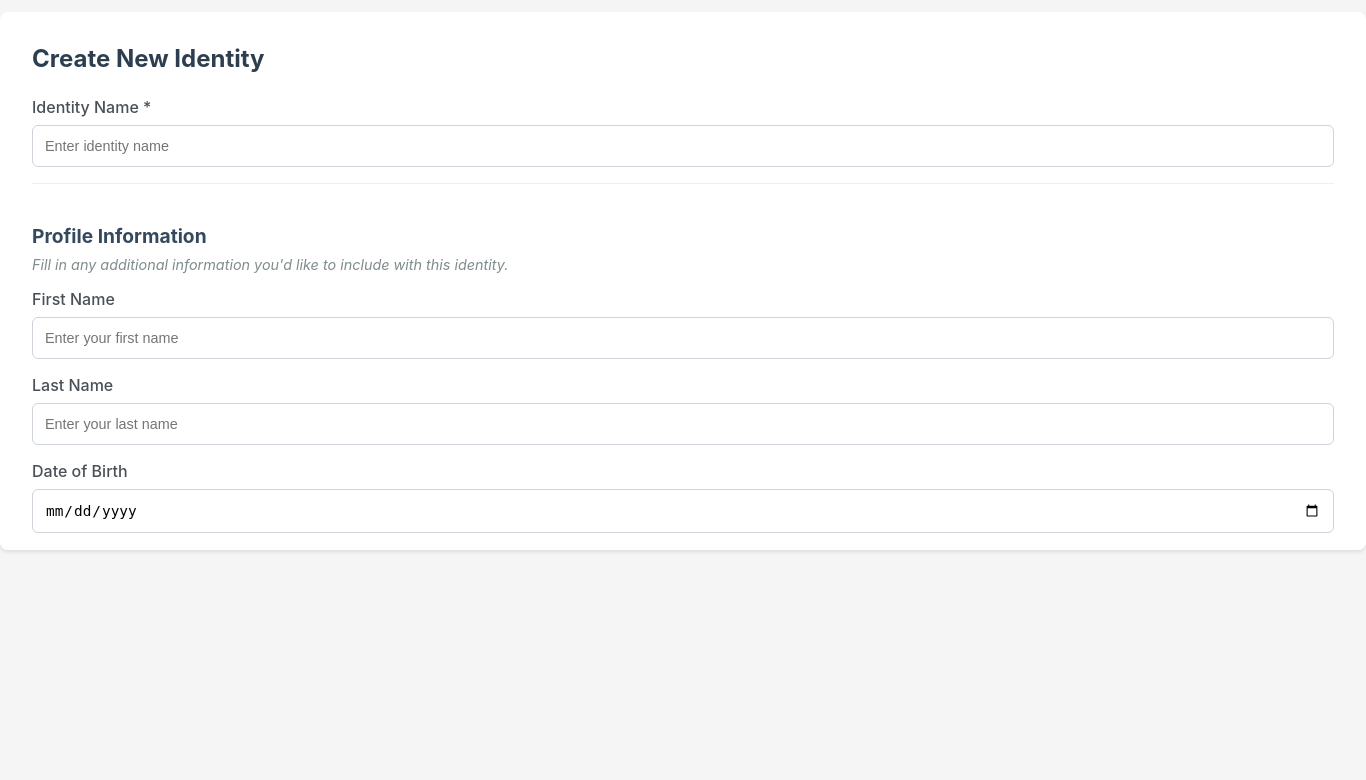
Test case: IdentityCreator › creates identity with attributes
The image size is (1366, 780).
Type "Test Identity" into the field labelled "Identity Name *" at (683, 146), box top-left (32, 125), bottom-right (1334, 167)
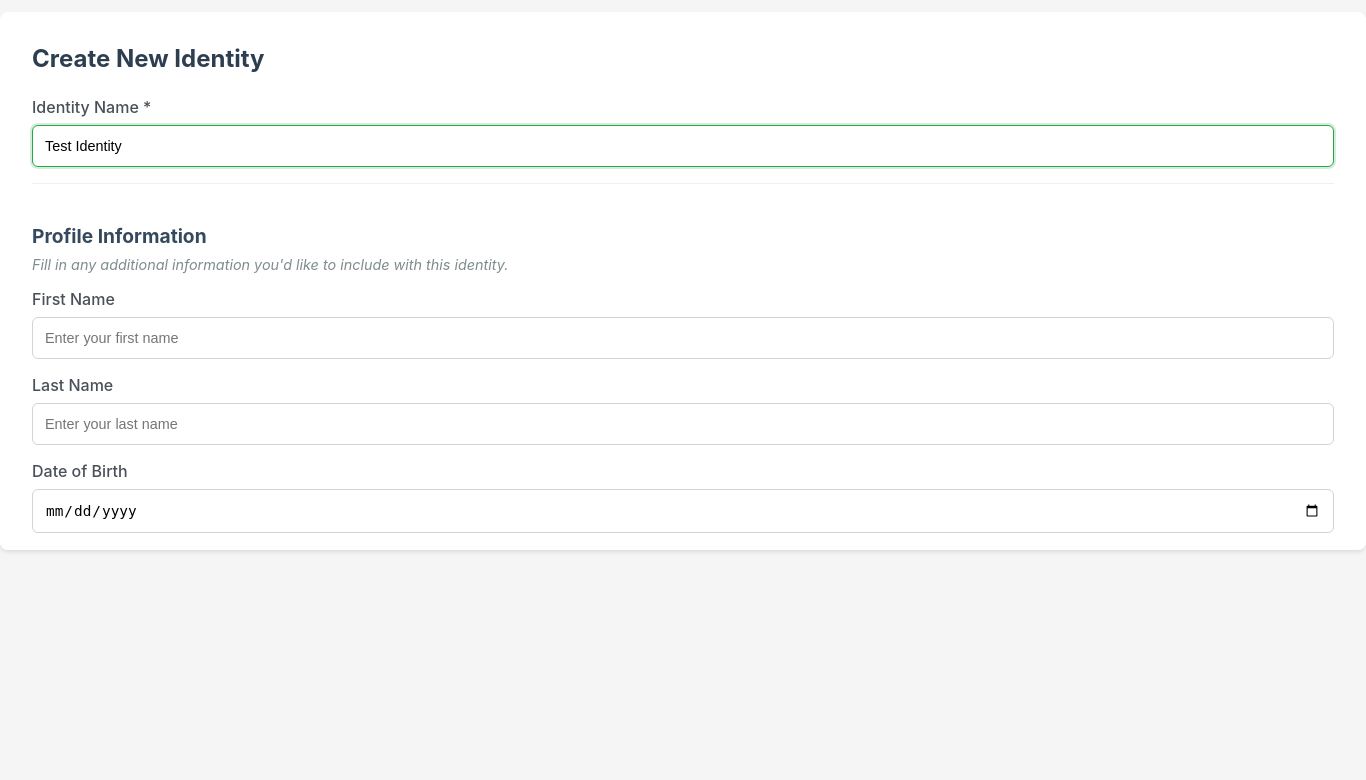
Type "John" into the field labelled "First Name" at (683, 338), box top-left (32, 317), bottom-right (1334, 359)
(page scrolled)
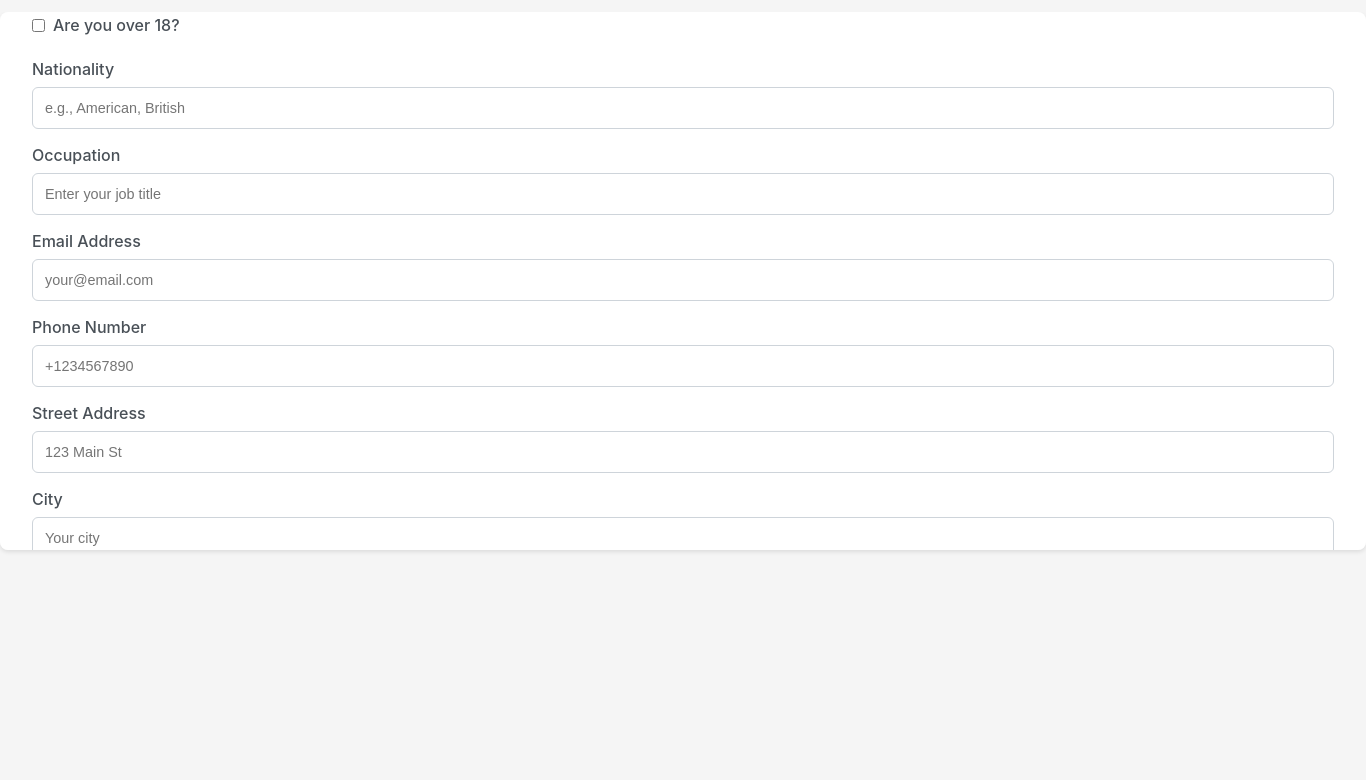
Type "john@example.com" into the field labelled "Email Address" at (683, 280), box top-left (32, 259), bottom-right (1334, 301)
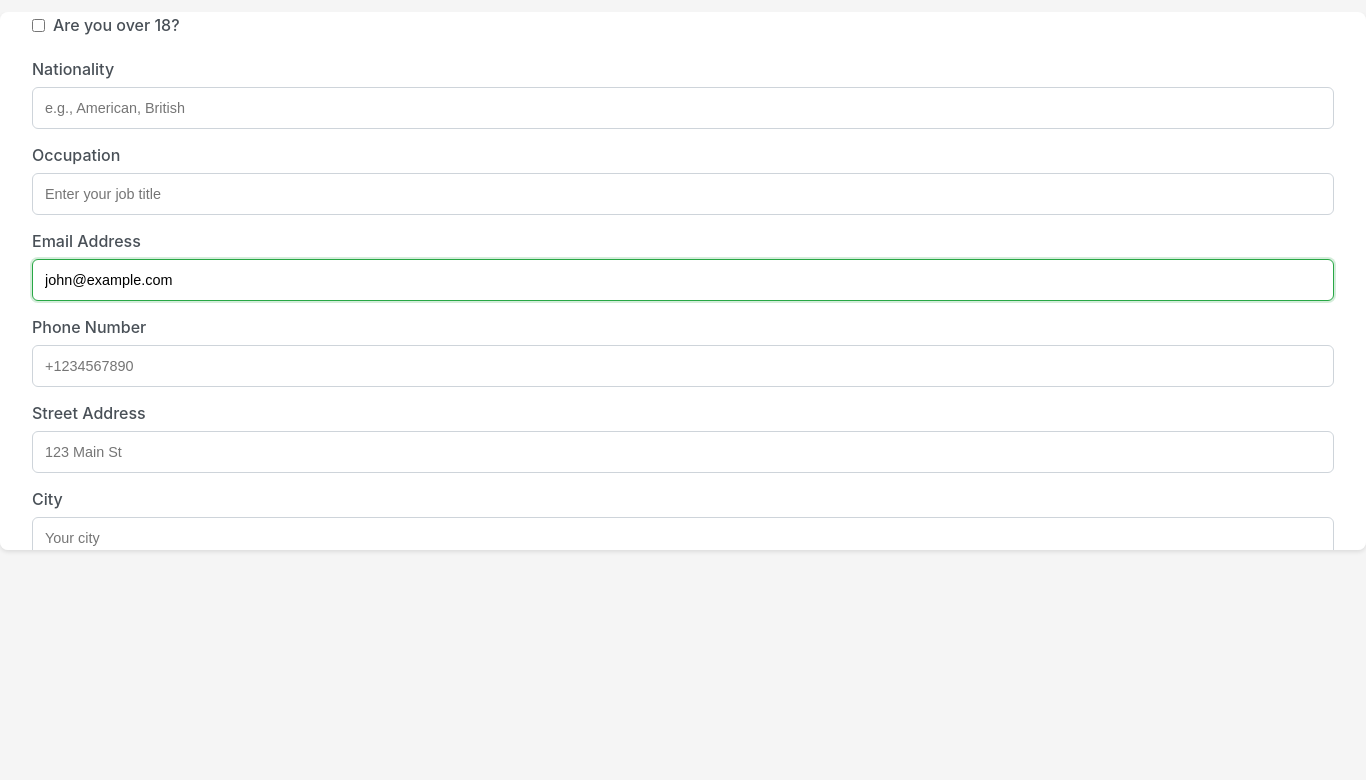
Click the checkbox labelled "Are you over 18?" at (38, 25), box top-left (32, 19), bottom-right (45, 32)
(page scrolled)
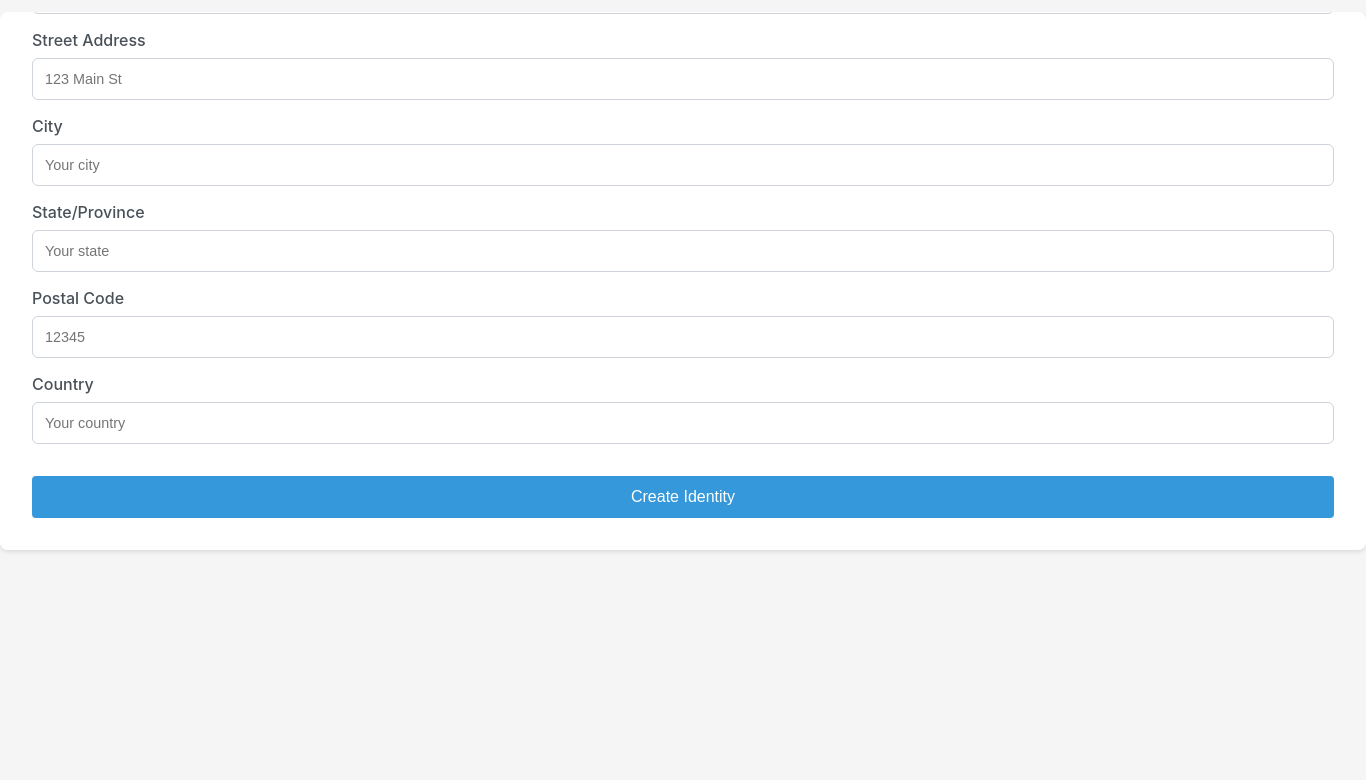
Click the button "Create Identity" at (683, 497), box top-left (32, 476), bottom-right (1334, 518)
(page scrolled)
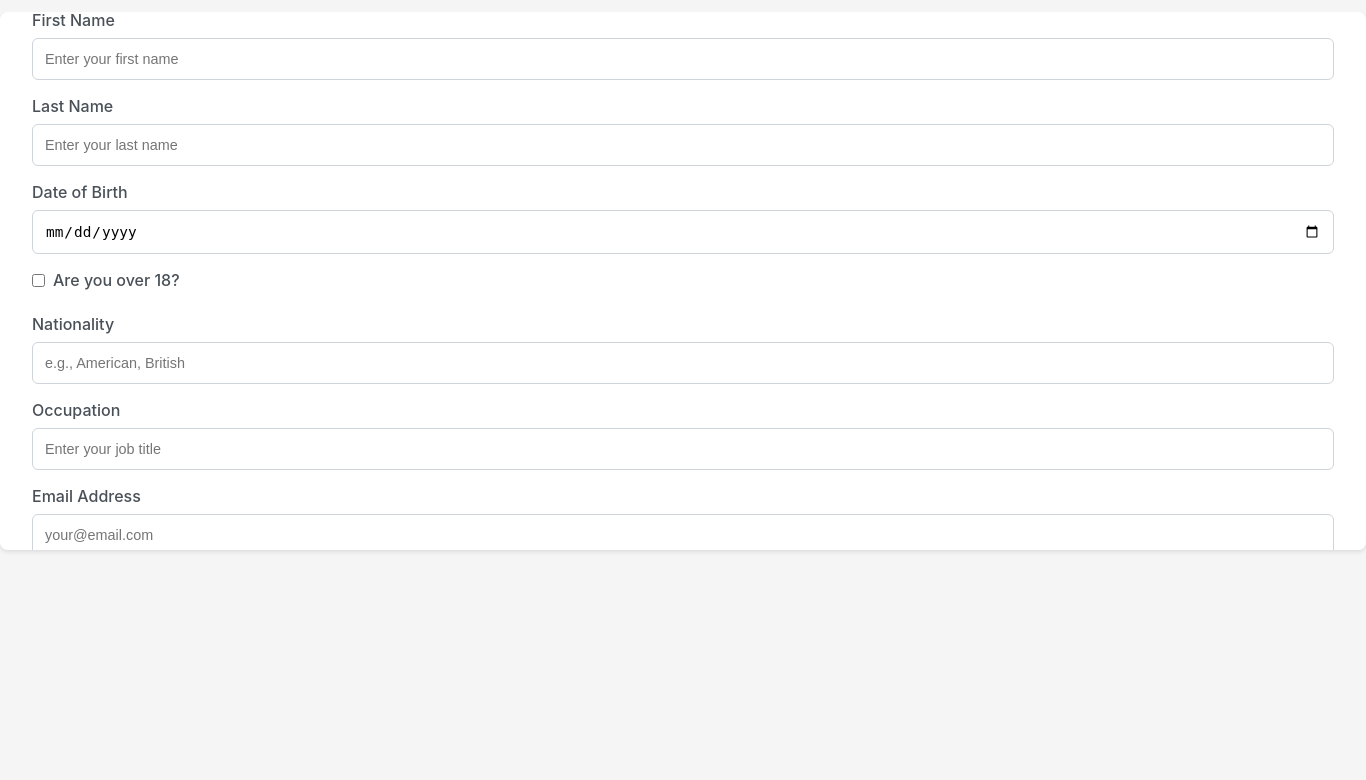
Check: the checkbox labelled "Are you over 18?" is not checked, box top-left (32, 274), bottom-right (45, 287)
Check: the field labelled "First Name" is empty, box top-left (32, 38), bottom-right (1334, 80)
Check: the field labelled "Email Address" is empty, box top-left (32, 514), bottom-right (1334, 550)
